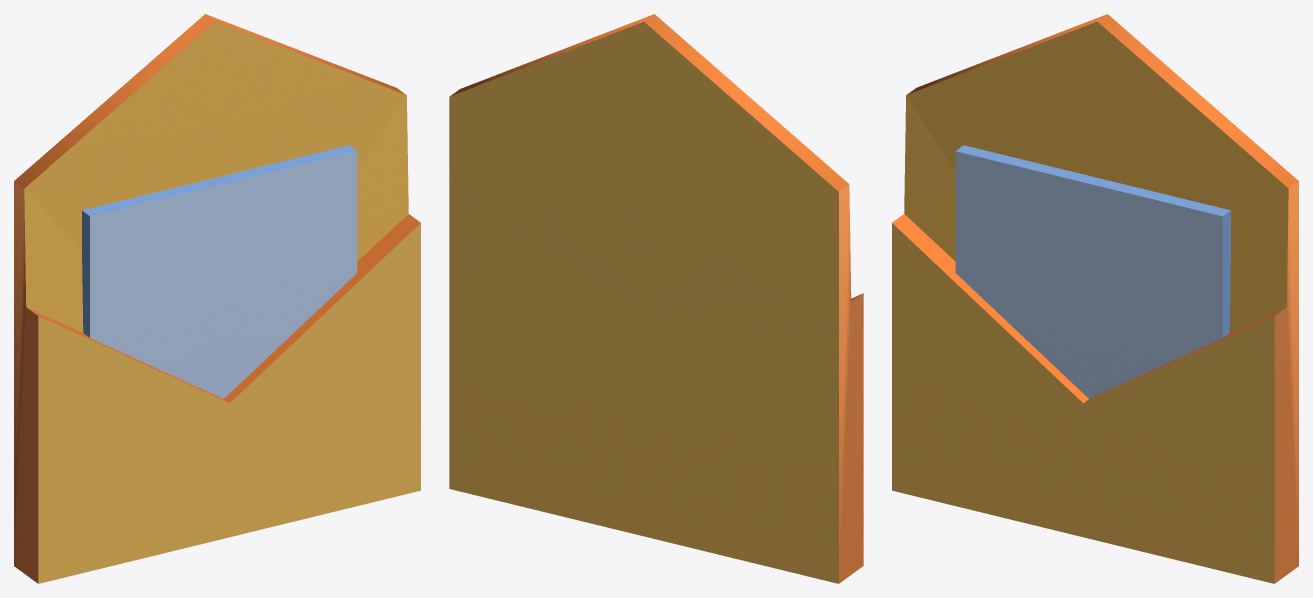
The model's file is SM_OpenLetter01.fbx.
The picture shows the model from 3 angles, left to right: view 1: azimuth 30°, elevation 25°; view 2: azimuth 150°, elevation 25°; view 3: azimuth 330°, elevation 25°; orthographic projection.
Visible parts, largest first — view 1: SM_OpenLetter01; view 2: SM_OpenLetter01; view 3: SM_OpenLetter01.
Boxes of the visible parts, <box> form: SM_OpenLetter01: <box>14,14,420,583</box>; SM_OpenLetter01: <box>449,14,863,583</box>; SM_OpenLetter01: <box>892,14,1298,583</box>.
Bounding box in the file's own units: 26.95 × 34.02 × 2.97.
